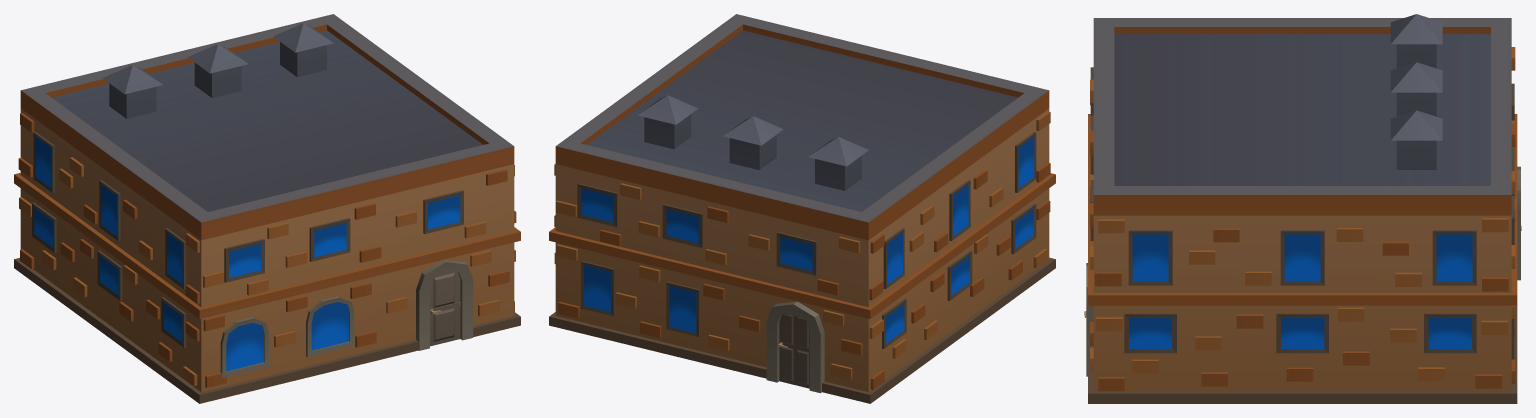
Rendered from SM_House_15.FBX.
The picture shows the model from 3 angles, left to right: view 1: azimuth 30°, elevation 25°; view 2: azimuth 150°, elevation 25°; view 3: azimuth 270°, elevation 25°; orthographic projection. The views are drawn at different scales.
Parts seen in each view (by area): view 1: SM_House_15; view 2: SM_House_15; view 3: SM_House_15.
Boxes of the visible parts, bbox=[...] form: SM_House_15: bbox=[14, 14, 520, 403]; SM_House_15: bbox=[549, 14, 1055, 403]; SM_House_15: bbox=[1084, 14, 1521, 403].
Size of what is drawn, in the model's own units: 960 by 978 by 619.
